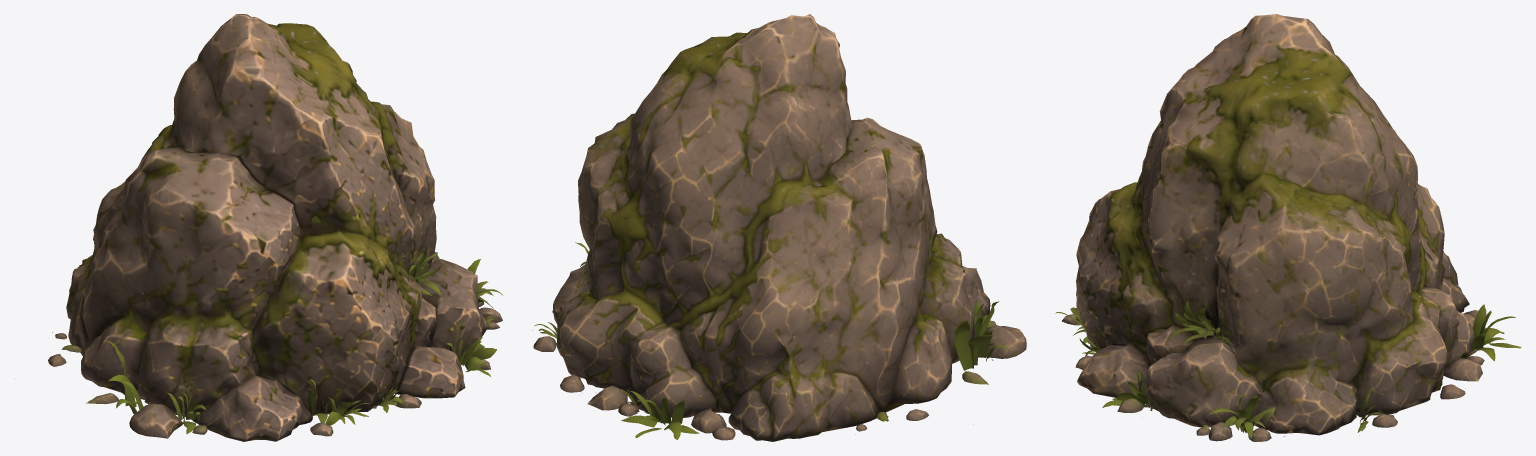
Rendered from Meshy_AI_Mossy_Stone_Outcrop_1019090447_texture.fbx.
The picture shows the model from 3 angles, left to right: view 1: azimuth 30°, elevation 25°; view 2: azimuth 150°, elevation 25°; view 3: azimuth 270°, elevation 25°; orthographic projection. The views are drawn at different scales.
Parts seen in each view (by area): view 1: Mesh_0; view 2: Mesh_0; view 3: Mesh_0.
Boxes of the visible parts, <box> form: Mesh_0: <box>48,14,502,441</box>; Mesh_0: <box>532,14,1026,441</box>; Mesh_0: <box>1055,14,1521,441</box>.
Bounding box in the file's own units: 92.04 × 67.14 × 87.84.
1 material, 1 textured.
